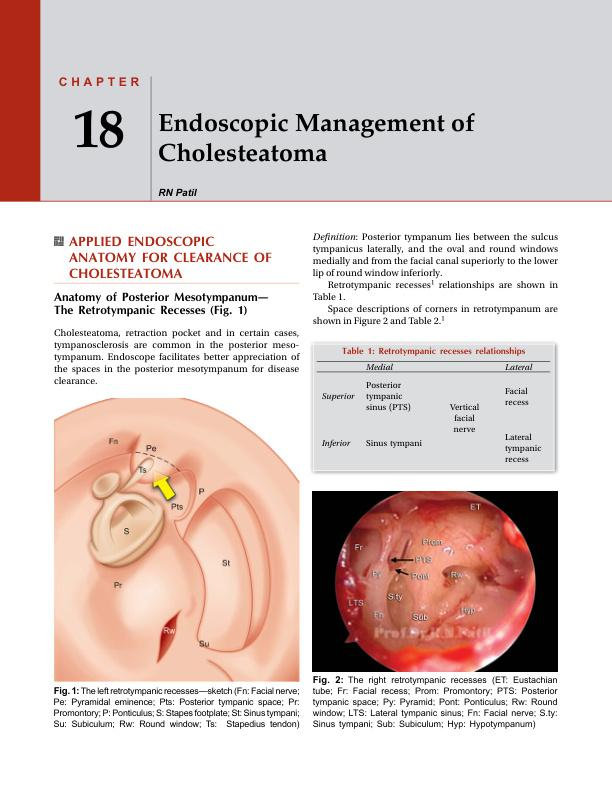caption: (312, 675, 559, 730), (52, 685, 301, 731), (340, 346, 527, 358)
chapter-heading: (156, 111, 477, 164)
image: (52, 395, 300, 683), (311, 490, 559, 673)
section-heading: (67, 234, 274, 280)
sub-section-heading: (52, 290, 271, 318)
table: (316, 359, 550, 470)
text: (310, 231, 560, 328), (53, 327, 301, 385)
